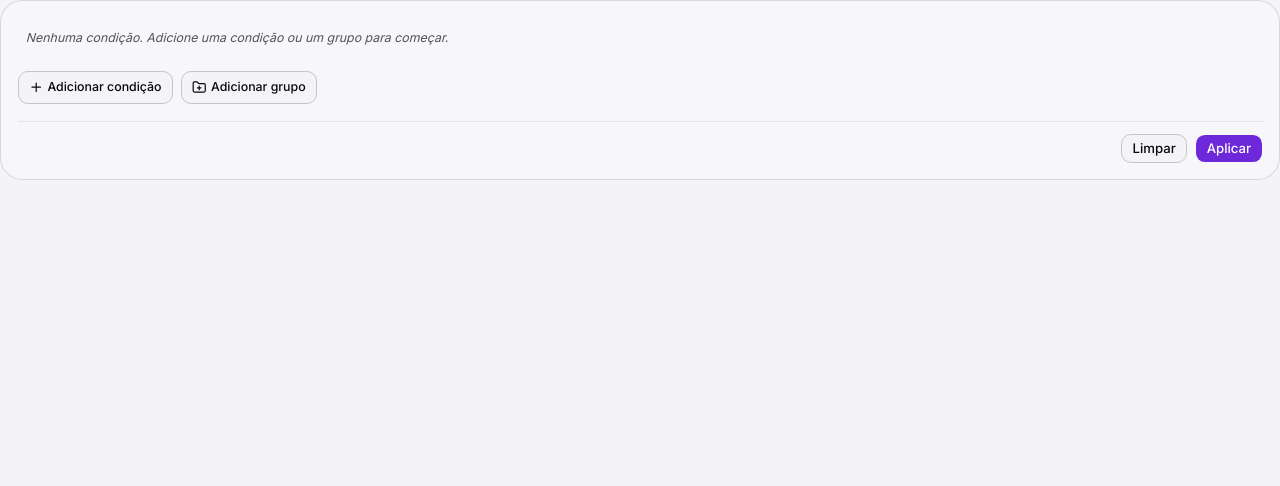
Test: ConditionalFilters v0.32 › Click no conector alterna E↔OU
Click the button "Adicionar condição".
click(95, 88)  # box [18,71,173,104]
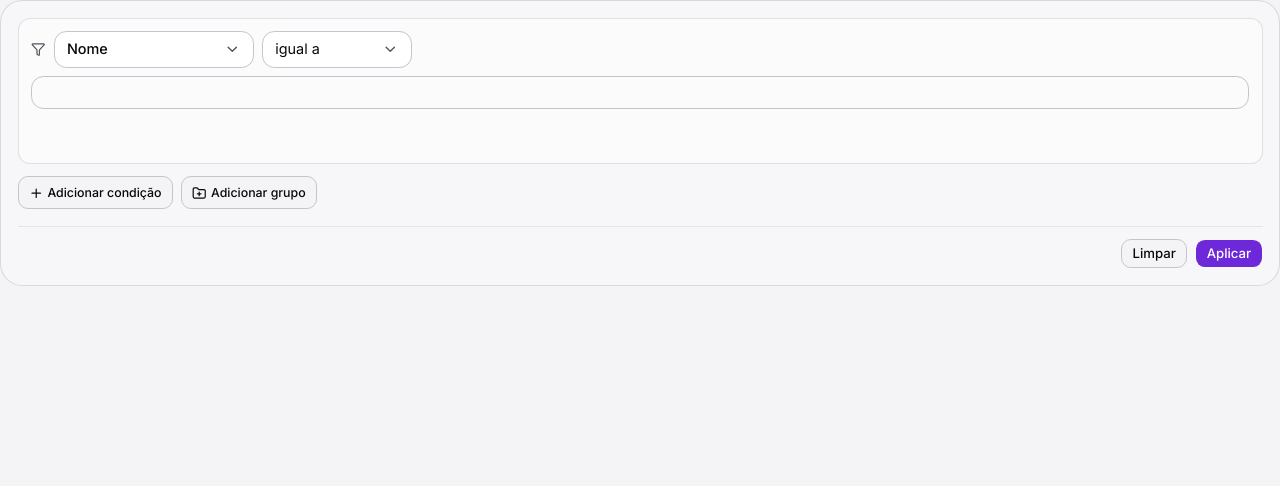
Click the button "Adicionar condição".
click(95, 193)  # box [18,176,173,209]
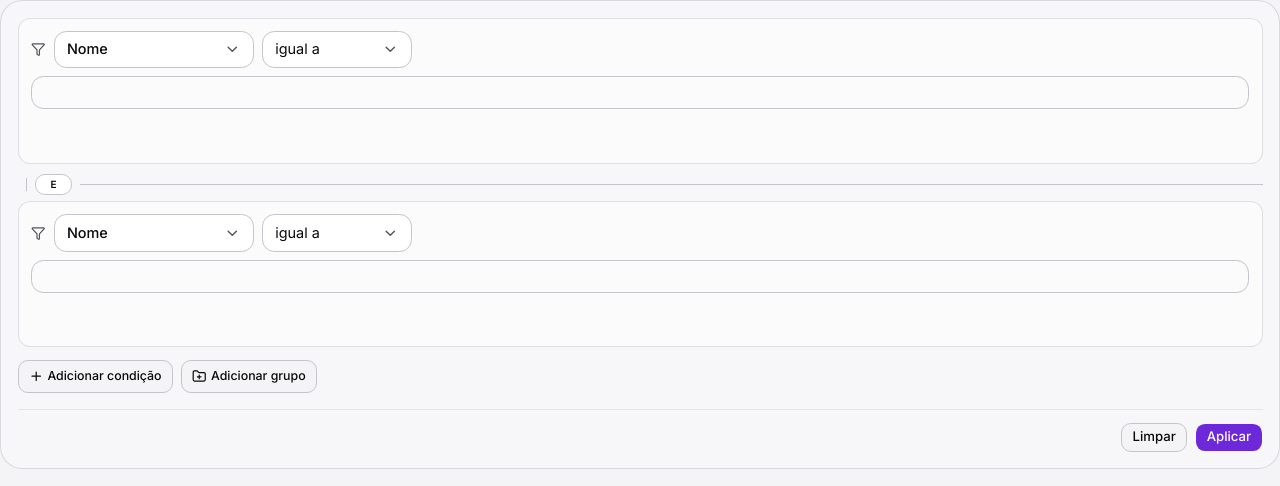
Click the button named "Mudar operador para OU".
click(54, 184)  # box [35,174,72,195]
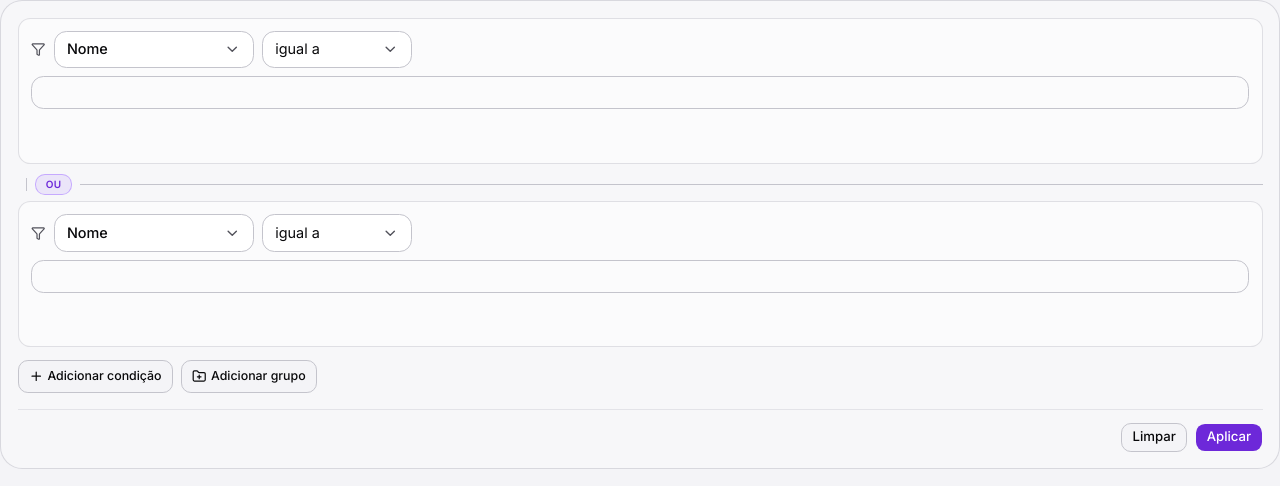
expect the button with aria-label "Mudar operador para E" is shown: met, box [35,174,72,195]
